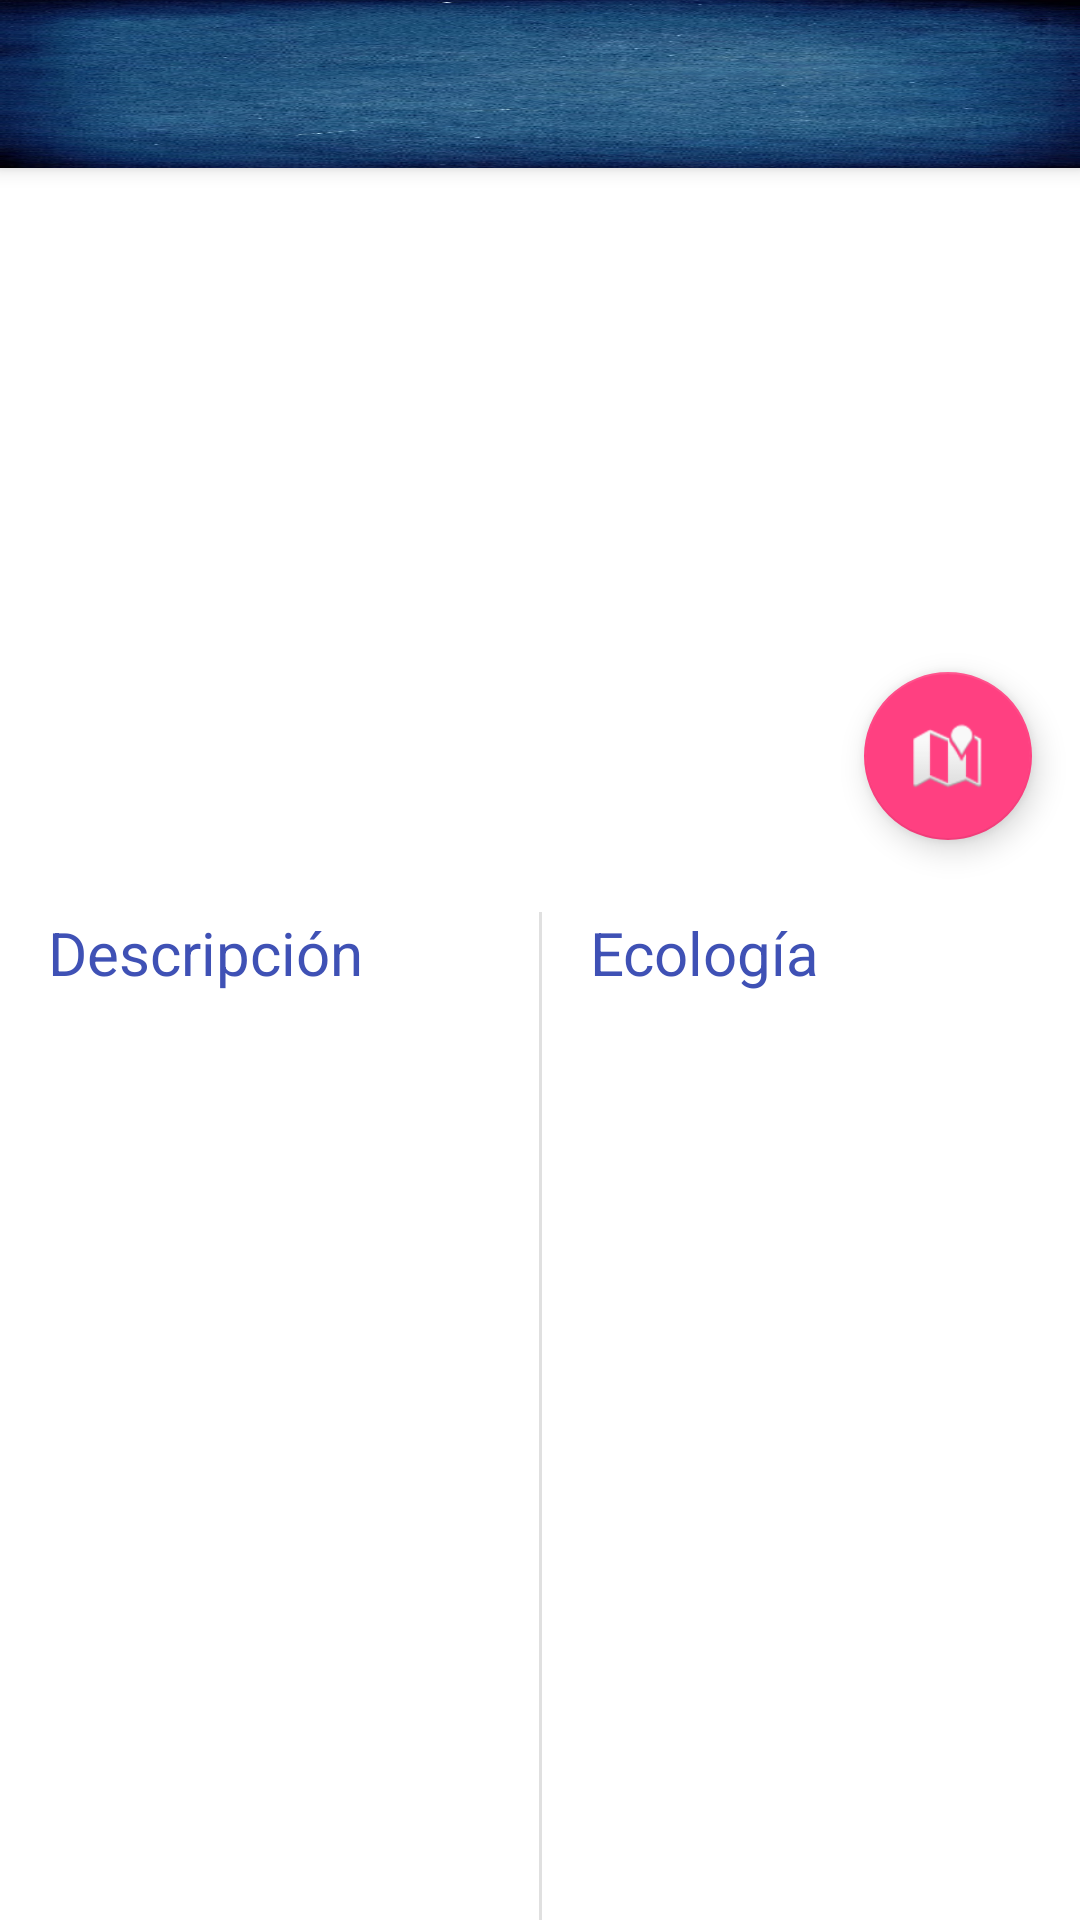

Screen size 1080px x 1920px. Icon name, then its box in pixels as (x1, y1, x2, y2):
map: (864, 672, 1032, 840)
